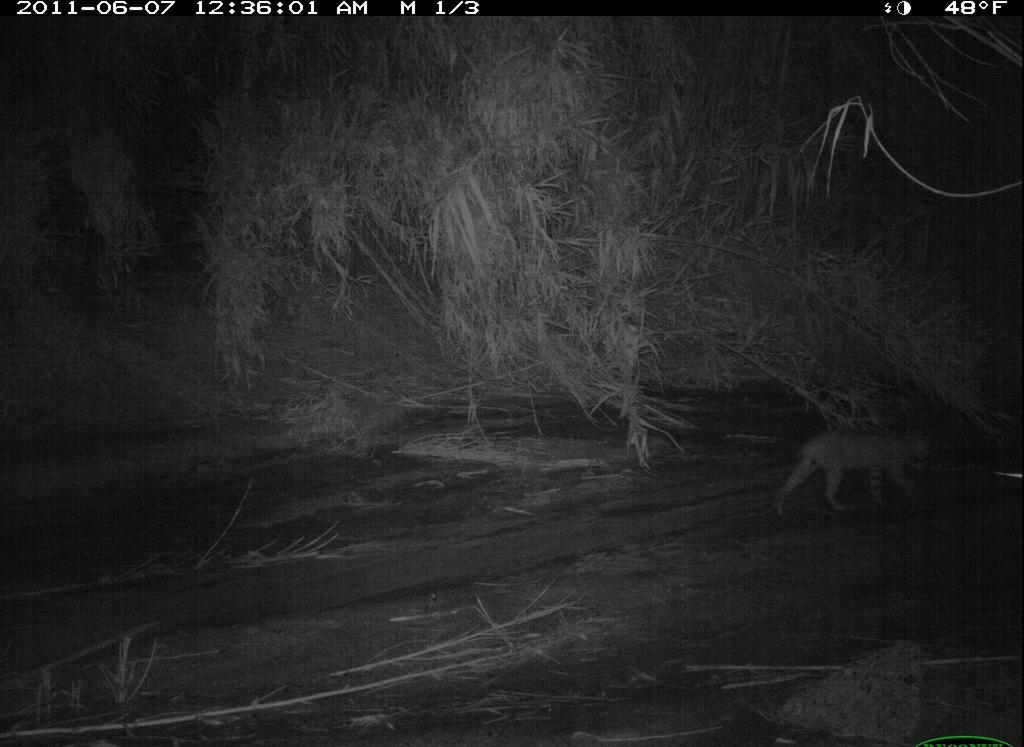bobcat: (758, 414, 967, 532)
